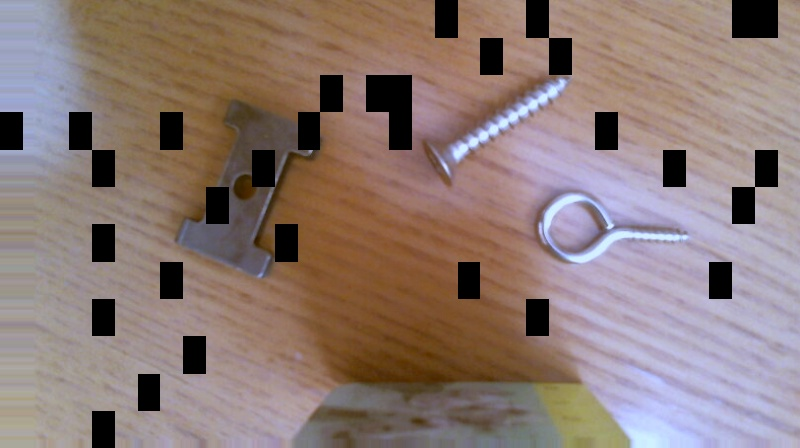O001: (533, 188, 695, 269)
O002: (169, 95, 324, 285)
S001: (416, 69, 579, 190)
